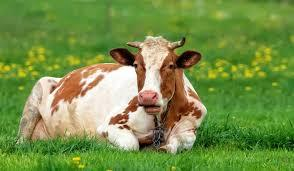cow: (19, 40, 201, 154)
